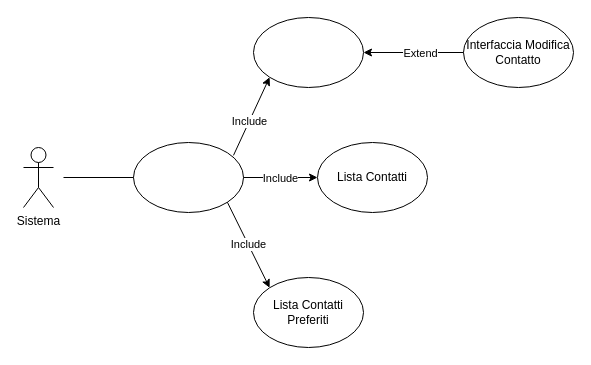
Image size: 591x365. Some labels were removed from this diagram. The centre of each missing label's shape, as x and y in pixels:
Dashboard: the point at 188,177
Interfaccia Contatto: the point at 308,52
